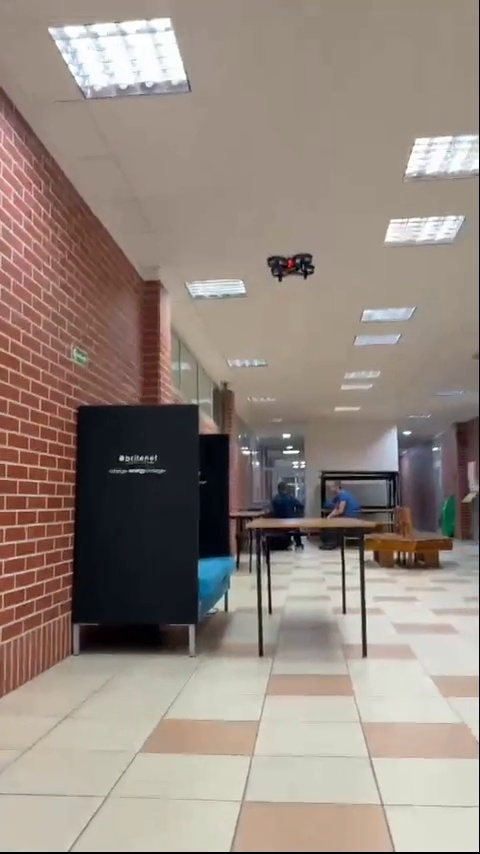drone: (266, 252, 314, 286)
no vest: (319, 475, 364, 514), (265, 479, 304, 521)
